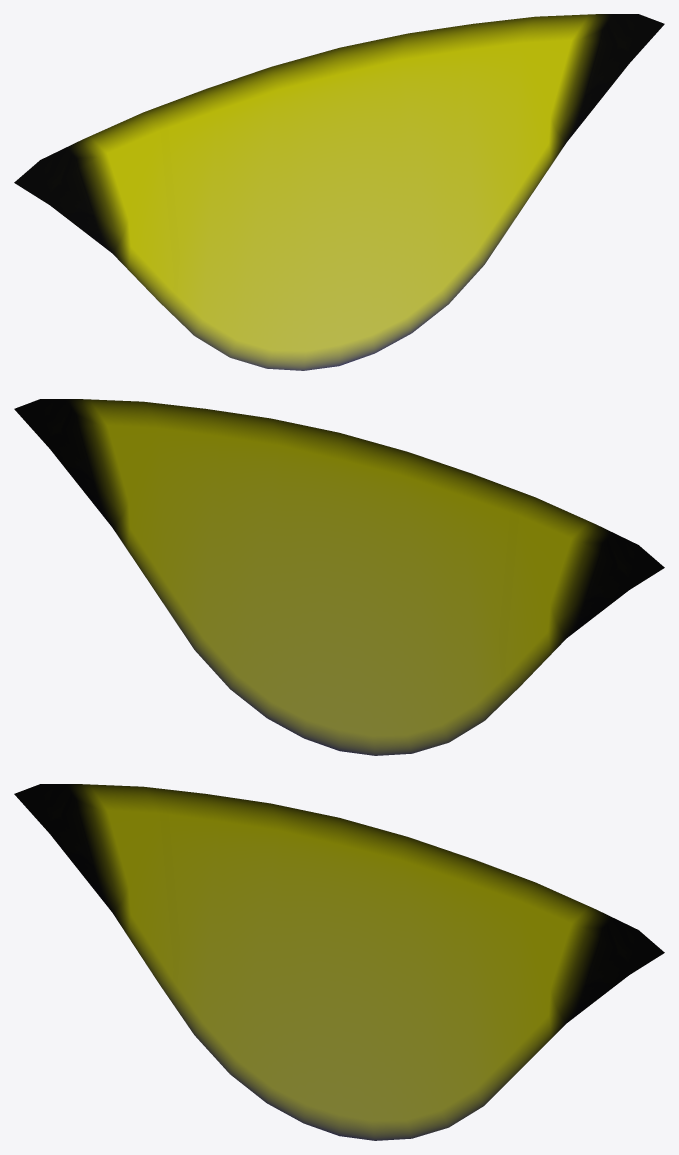
The model's file is MouthStickerDog1.gltf.
3 views of the same model, one above another, from view 1: azimuth 30°, elevation 25°; view 2: azimuth 150°, elevation 25°; view 3: azimuth 330°, elevation 25° (orthographic).
Parts seen in each view (by area): view 1: Line006; view 2: Line006; view 3: Line006.
Part boxes in pixels (x1=…): Line006: x1=14, y1=14, x2=664, y2=370; Line006: x1=14, y1=399, x2=664, y2=755; Line006: x1=14, y1=784, x2=664, y2=1140.
Bounding box in the file's own units: 0.8686 × 0.4059 × 1.31e-07.
Materials: 1 (1 with a texture image).
